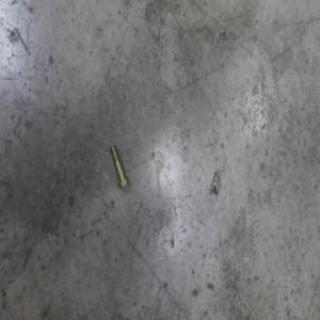Bolttrack_idkeyframe: (109, 144, 129, 190)
